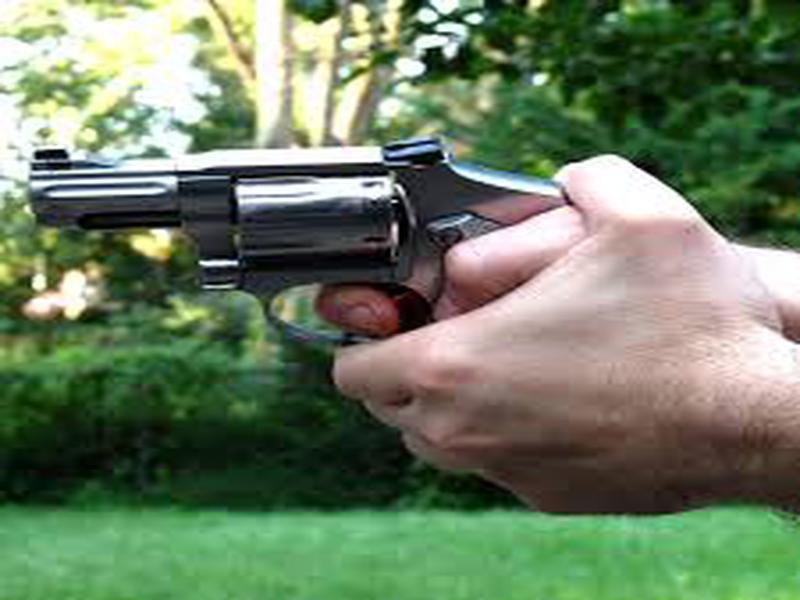gun: (26, 134, 800, 512)
